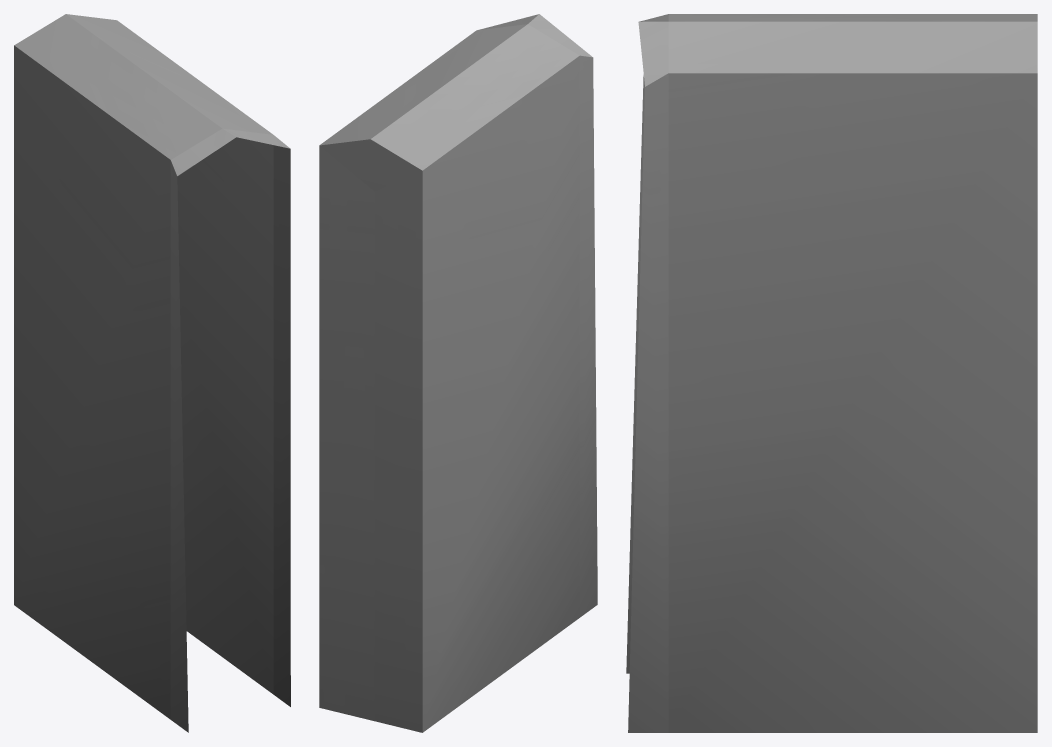
Rendered from SM_DoorTunnel.fbx.
3 renders of one model, left to right at view 1: azimuth 30°, elevation 25°; view 2: azimuth 150°, elevation 25°; view 3: azimuth 270°, elevation 25°, orthographic. The views are drawn at different scales.
Parts seen in each view (by area): view 1: SM_DoorwayTunnel; view 2: SM_DoorwayTunnel; view 3: SM_DoorwayTunnel.
Part boxes in pixels (x1,y1,x2,y2): SM_DoorwayTunnel: (14,14,290,732); SM_DoorwayTunnel: (319,14,597,732); SM_DoorwayTunnel: (626,14,1037,732).
Size of the model in its own units: 184 by 898 by 491.
